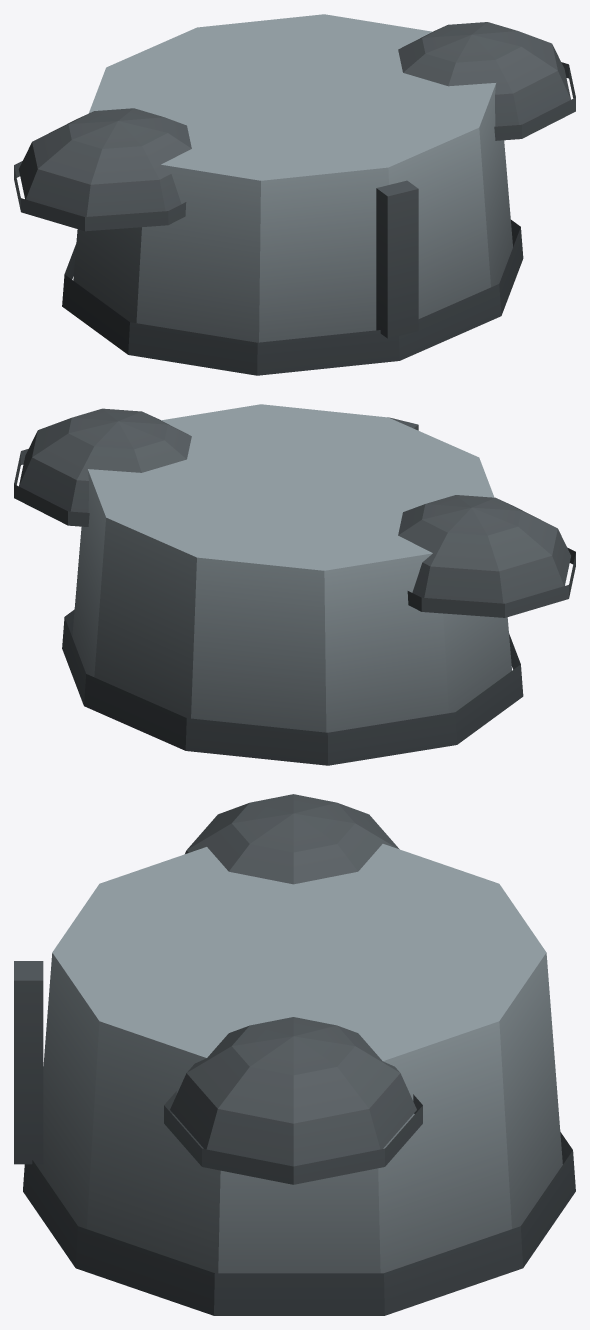
File: berserker_guard_chest_t1.glb
3 renders of one model, top to bottom at view 1: azimuth 30°, elevation 25°; view 2: azimuth 150°, elevation 25°; view 3: azimuth 270°, elevation 25°, orthographic. The views are drawn at different scales.
Visible parts, largest first — view 1: berserker_guard_chest_t1__chest; view 2: berserker_guard_chest_t1__chest; view 3: berserker_guard_chest_t1__chest.
Part boxes in pixels (x1,y1,x2,y2): berserker_guard_chest_t1__chest: (14, 14, 575, 375); berserker_guard_chest_t1__chest: (14, 404, 575, 765); berserker_guard_chest_t1__chest: (14, 794, 575, 1315).
Bounding box in the file's own units: 2.98 × 1.07 × 2.05.
Materials: 1 (1 with a texture image).
